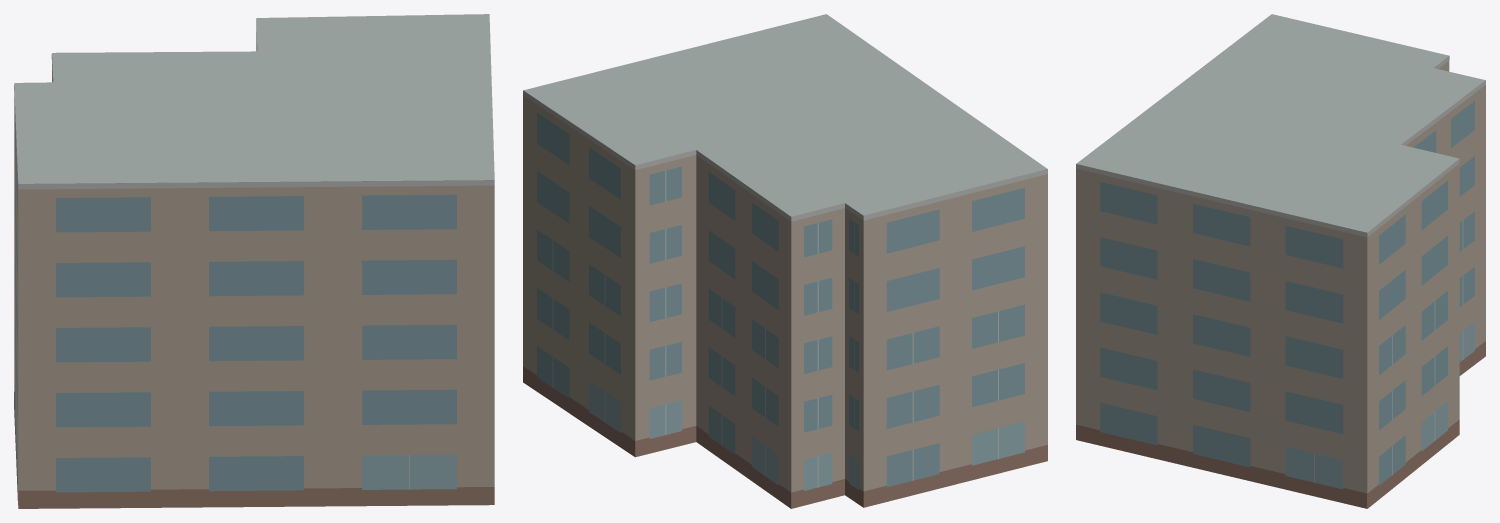
File: survey-upis-32887476.glb
The picture shows the model from 3 angles, left to right: view 1: azimuth 30°, elevation 25°; view 2: azimuth 150°, elevation 25°; view 3: azimuth 270°, elevation 25°; orthographic projection. The views are drawn at different scales.
Visible parts, largest first — view 1: survey-upis-32887476.tmp; view 2: survey-upis-32887476.tmp; view 3: survey-upis-32887476.tmp.
Part boxes in pixels (x1,y1,x2,y2): survey-upis-32887476.tmp: (14,14,494,508); survey-upis-32887476.tmp: (523,14,1047,508); survey-upis-32887476.tmp: (1076,14,1485,508).
Bounding box in the file's own units: 24.3 × 14.3 × 19.24.
